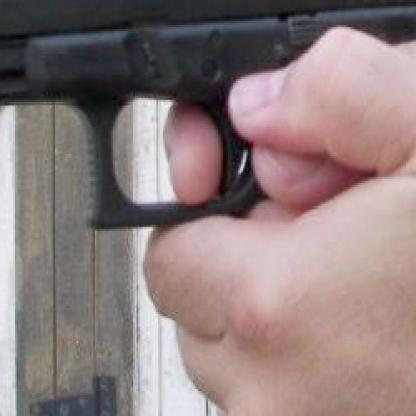gun: (0, 0, 415, 236)
